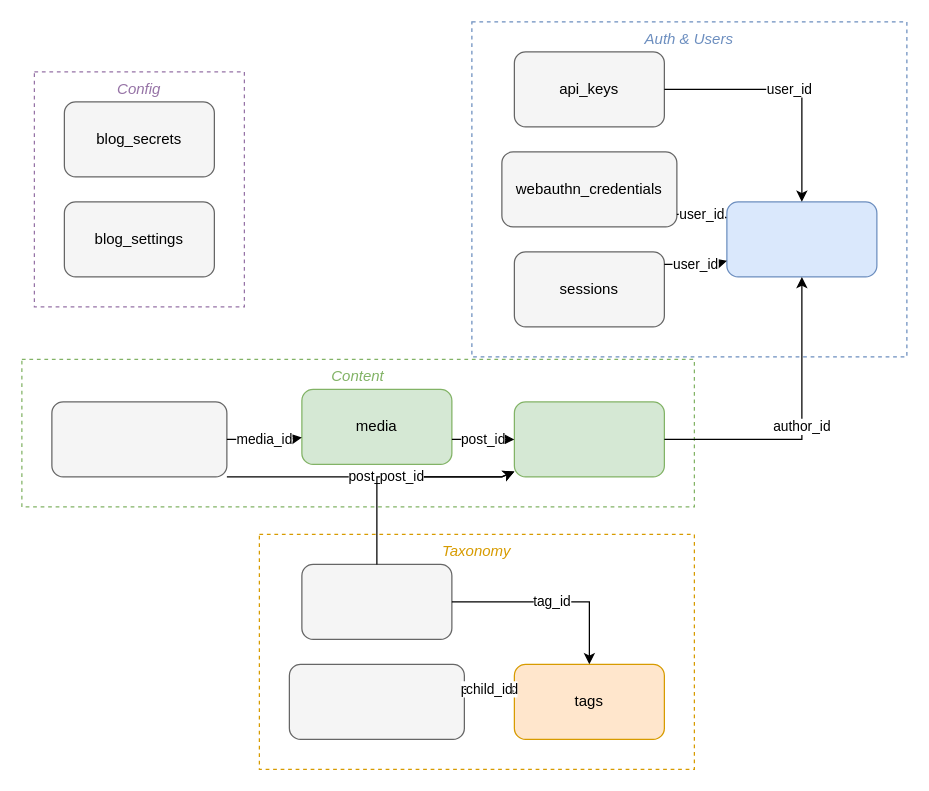
This 929x791 diagram has some shape labels left out. The centre of each missing label's shape, as x and y in pixels:
media_visibility_log: the point at 139,439
post_tags: the point at 376,601
posts: the point at 588,439
tag_relationships: the point at 376,701
users: the point at 801,239
